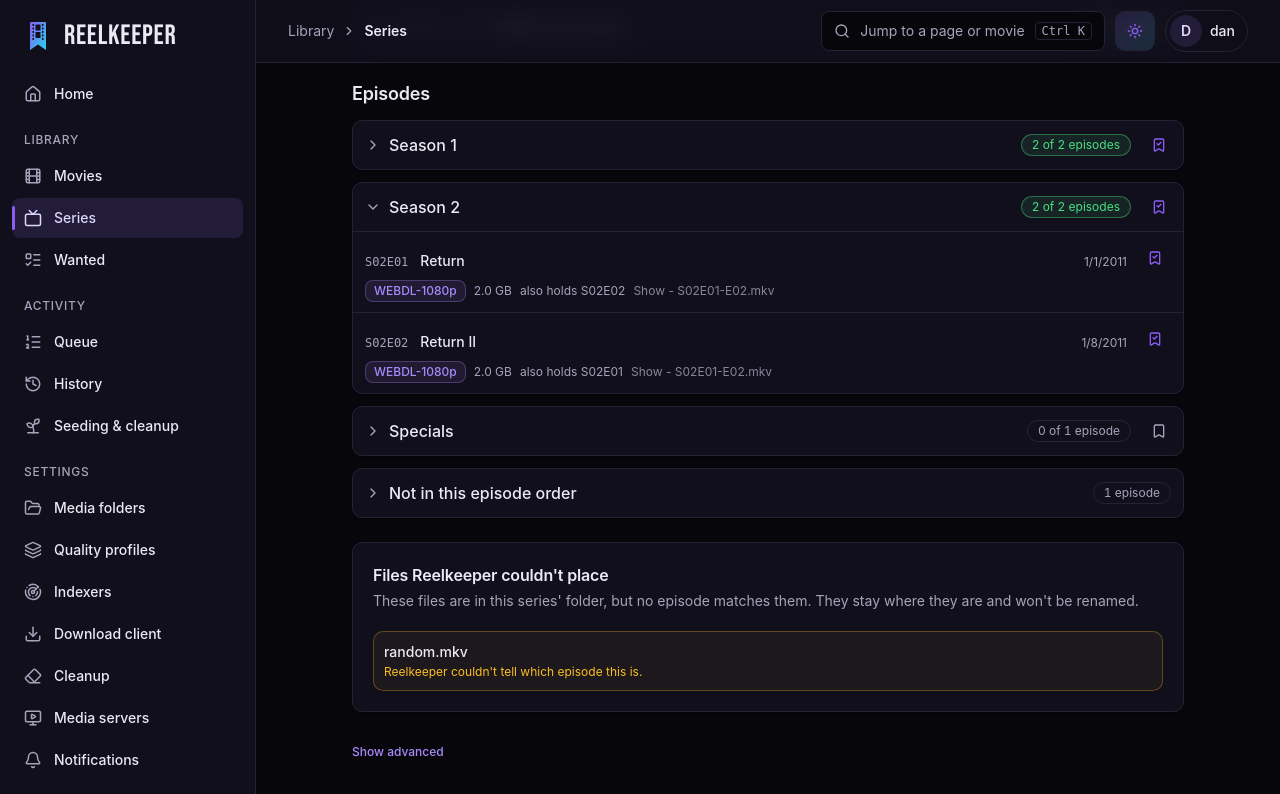
series page › lists episodes the order leaves out, collapsed
(page scrolled)
Check: the text "Deleted Scene" is not shown
What coordinates should you click on to do the following:
click the button "Not in this episode order 1 episode"
I would click on:
 (483, 493)
Its box is [353, 469, 1183, 517].
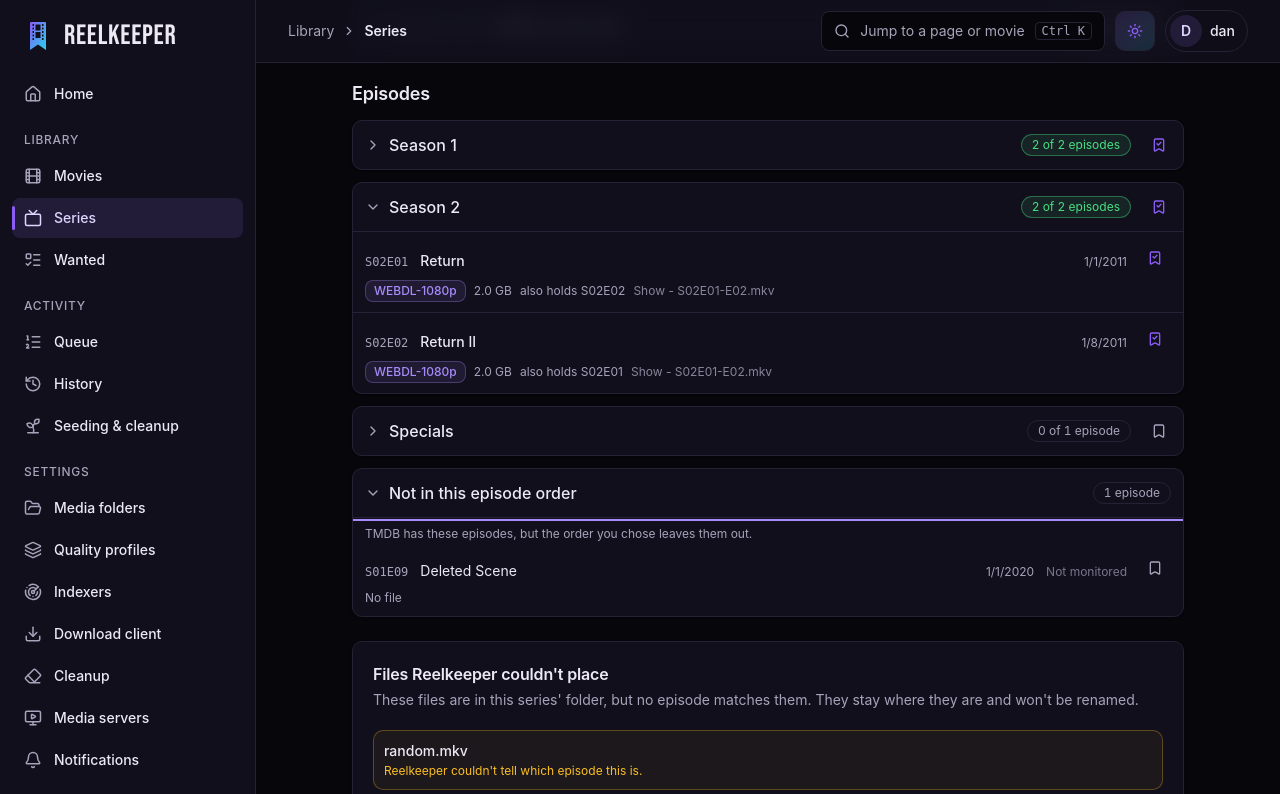
Check: the text "Deleted Scene" is shown, box [420, 562, 517, 579]
Check: the text "S01E09" is shown, box [365, 564, 408, 580]
